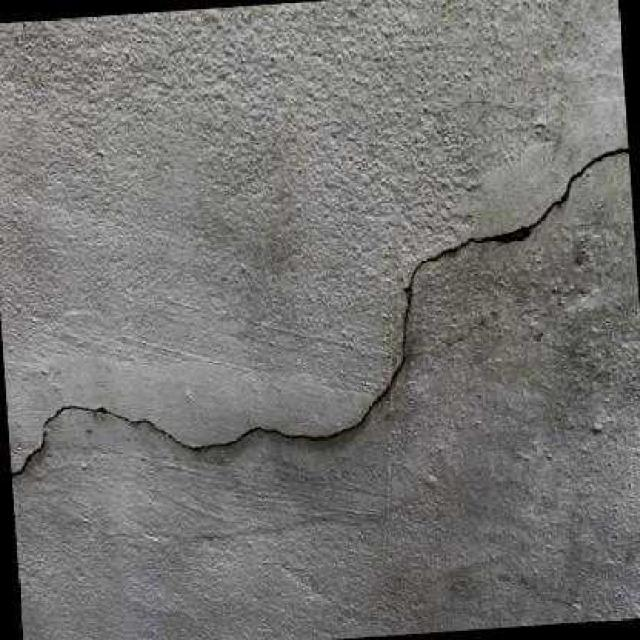D00: (10, 147, 629, 475)
